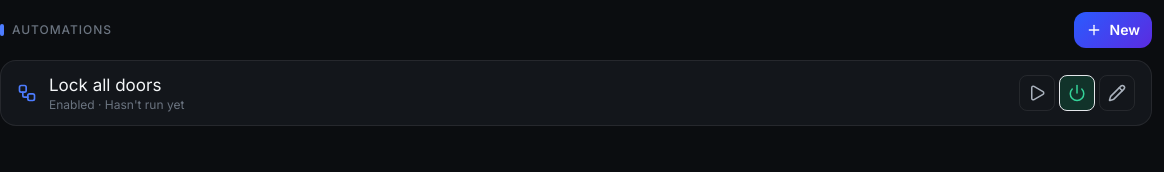
Test: Automations list › surfaces an error and snaps back when the toggle fails
Step 1. Click the button named "Disable" → click(1077, 93), box [1059,75,1095,111]
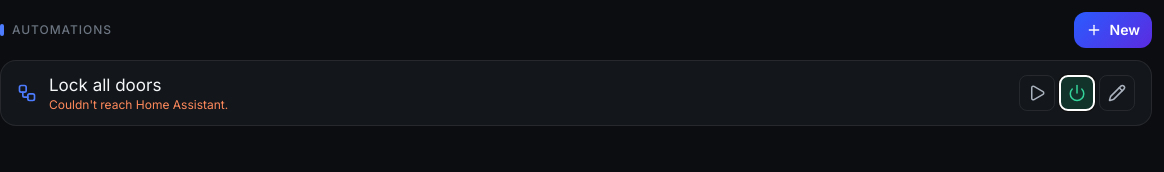
Expected: the text "Couldn't reach Home Assistant." is shown, [49,97,228,113]
